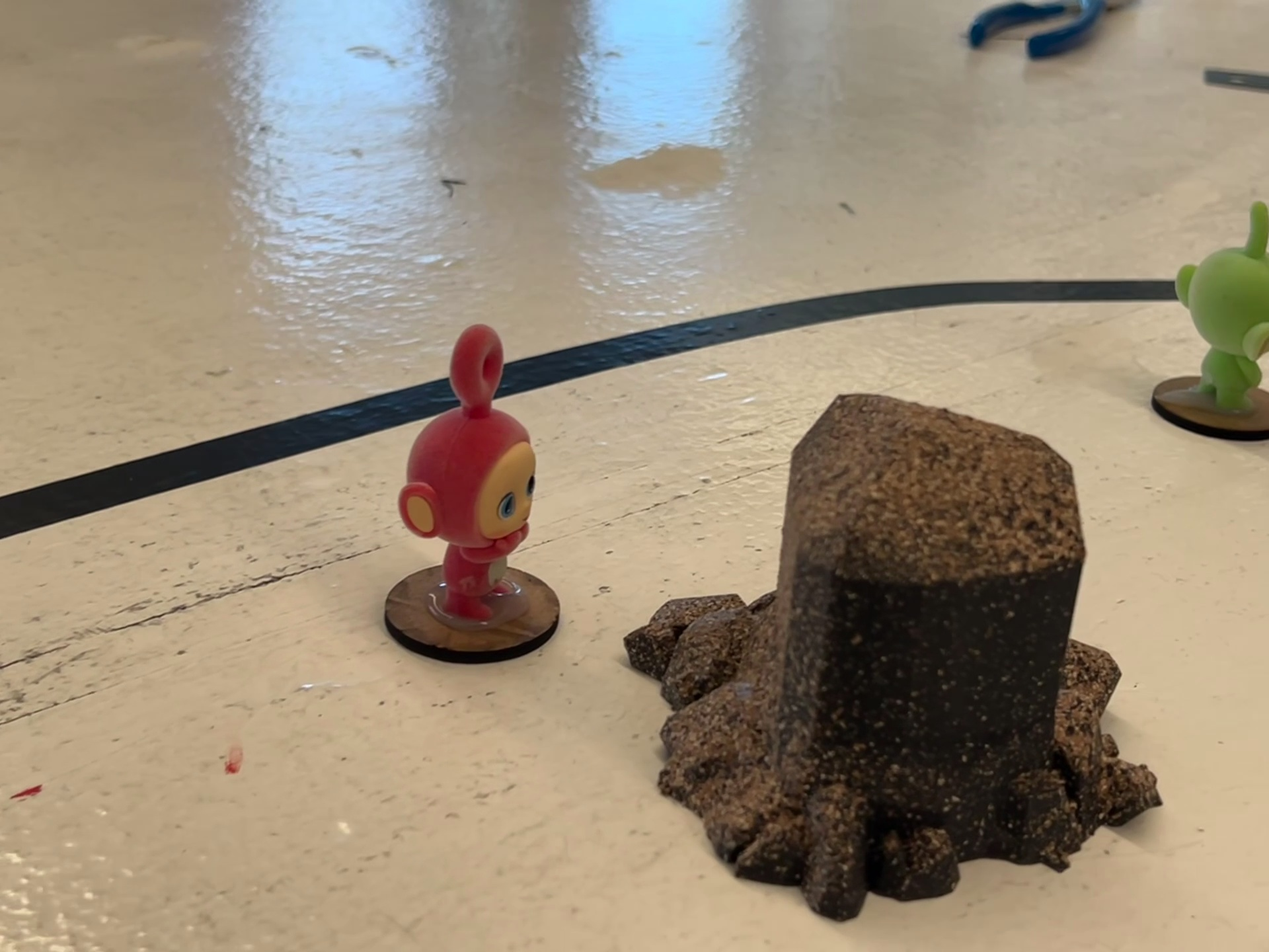teletubby: (399, 325, 535, 623), (1176, 201, 1268, 413)
